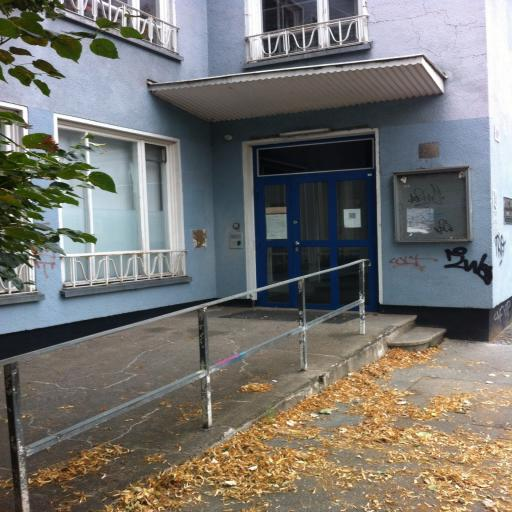ramp: (0, 304, 417, 512)
